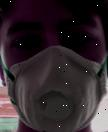with_mask: (1, 1, 108, 132)
